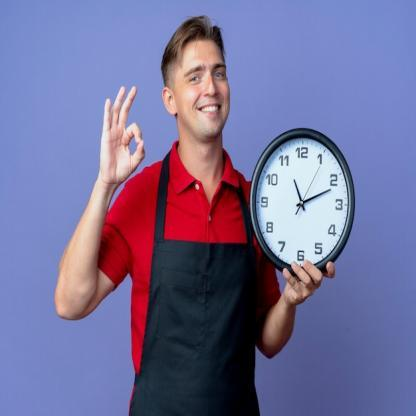ok: (98, 82, 146, 185)
